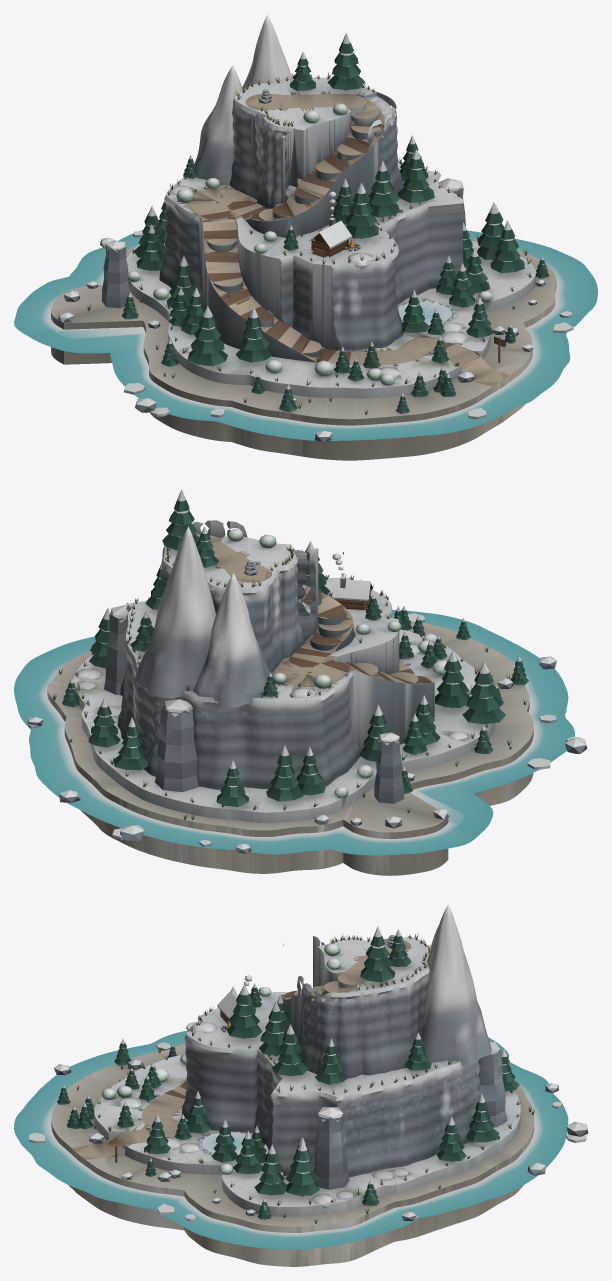
The model's file is TundraIsland.glb.
3 views of the same model, one above another, from view 1: azimuth 30°, elevation 25°; view 2: azimuth 150°, elevation 25°; view 3: azimuth 270°, elevation 25° (orthographic). The views are drawn at different scales.
Parts seen in each view (by area): view 1: Lit, Unlit, Soft; view 2: Lit, Unlit, Soft; view 3: Lit, Unlit, Soft.
Part boxes in pixels (left/top/right/bottom): Lit: left=51, top=32, right=573, bottom=460; Unlit: left=14, top=230, right=597, bottom=440; Soft: left=128, top=14, right=492, bottom=385; Lit: left=27, top=489, right=587, bottom=875; Unlit: left=14, top=610, right=574, bottom=855; Soft: left=73, top=526, right=472, bottom=798; Lit: left=29, top=926, right=588, bottom=1266; Unlit: left=14, top=1020, right=568, bottom=1249; Soft: left=101, top=904, right=491, bottom=1207.
Size of the model in its own units: 6.13 by 3.3 by 6.47.
